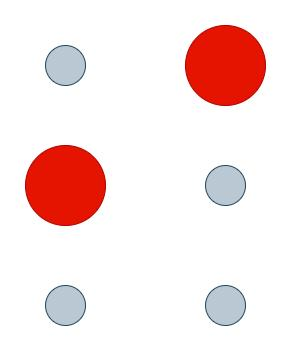I: (21, 18, 270, 333)
